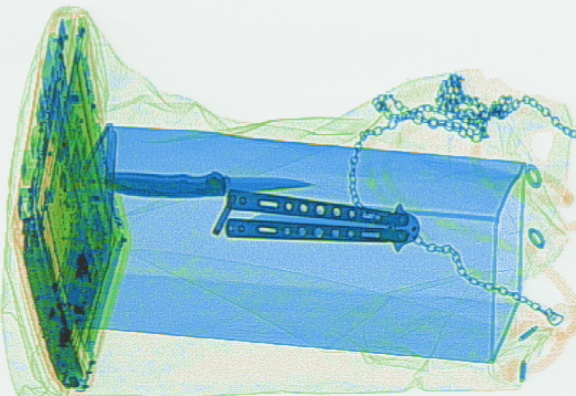knife: (222, 187, 420, 253), (101, 168, 315, 201)
